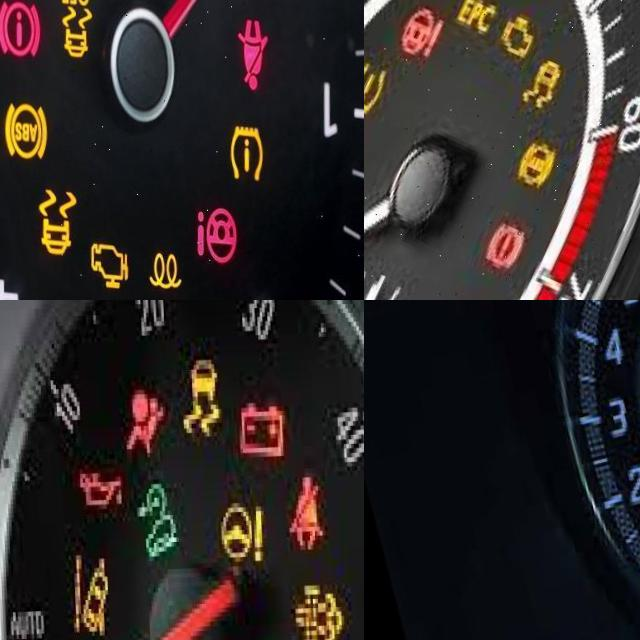Electronic Power Steering: (217, 504, 262, 569)
Electronic Power Steering Warning: (189, 209, 237, 267), (398, 13, 444, 59)
Seat Belt: (286, 476, 323, 552), (233, 20, 268, 95)
